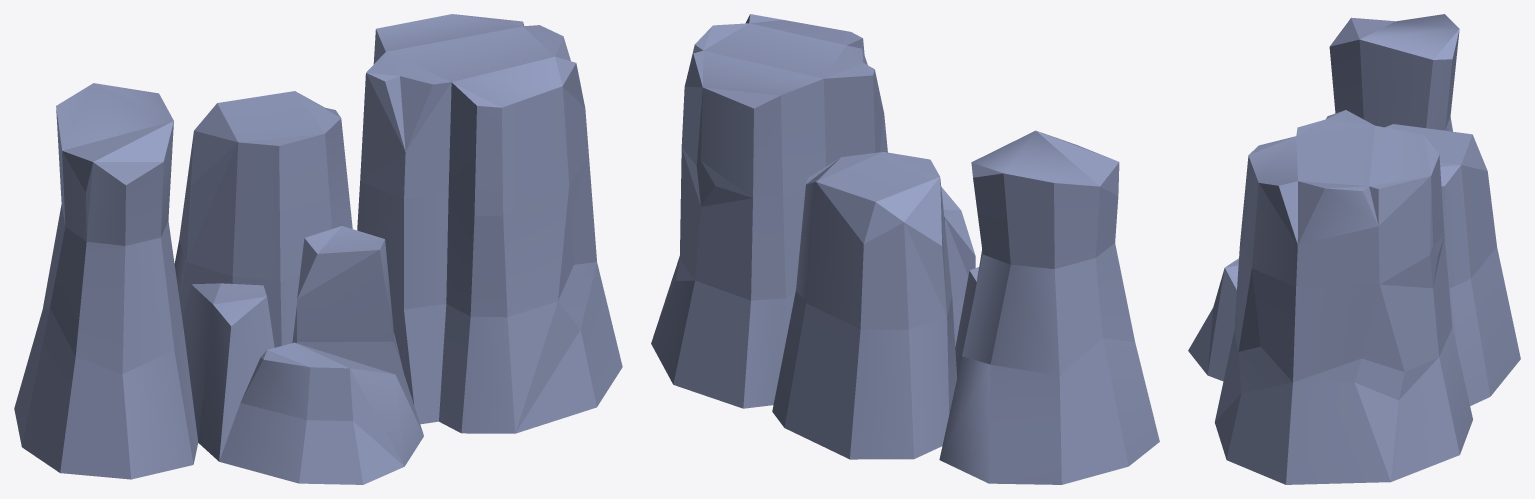
The model's file is Rock_7.fbx.
3 renders of one model, left to right at view 1: azimuth 30°, elevation 25°; view 2: azimuth 150°, elevation 25°; view 3: azimuth 270°, elevation 25°, orthographic. The views are drawn at different scales.
Parts seen in each view (by area): view 1: Rock_7; view 2: Rock_7; view 3: Rock_7.
Boxes of the visible parts, left/top/right/bottom form: Rock_7: left=14, top=14, right=622, bottom=484; Rock_7: left=651, top=14, right=1159, bottom=484; Rock_7: left=1188, top=14, right=1520, bottom=484.
Size of the model in its own units: 7.98 by 4.68 by 4.97.
